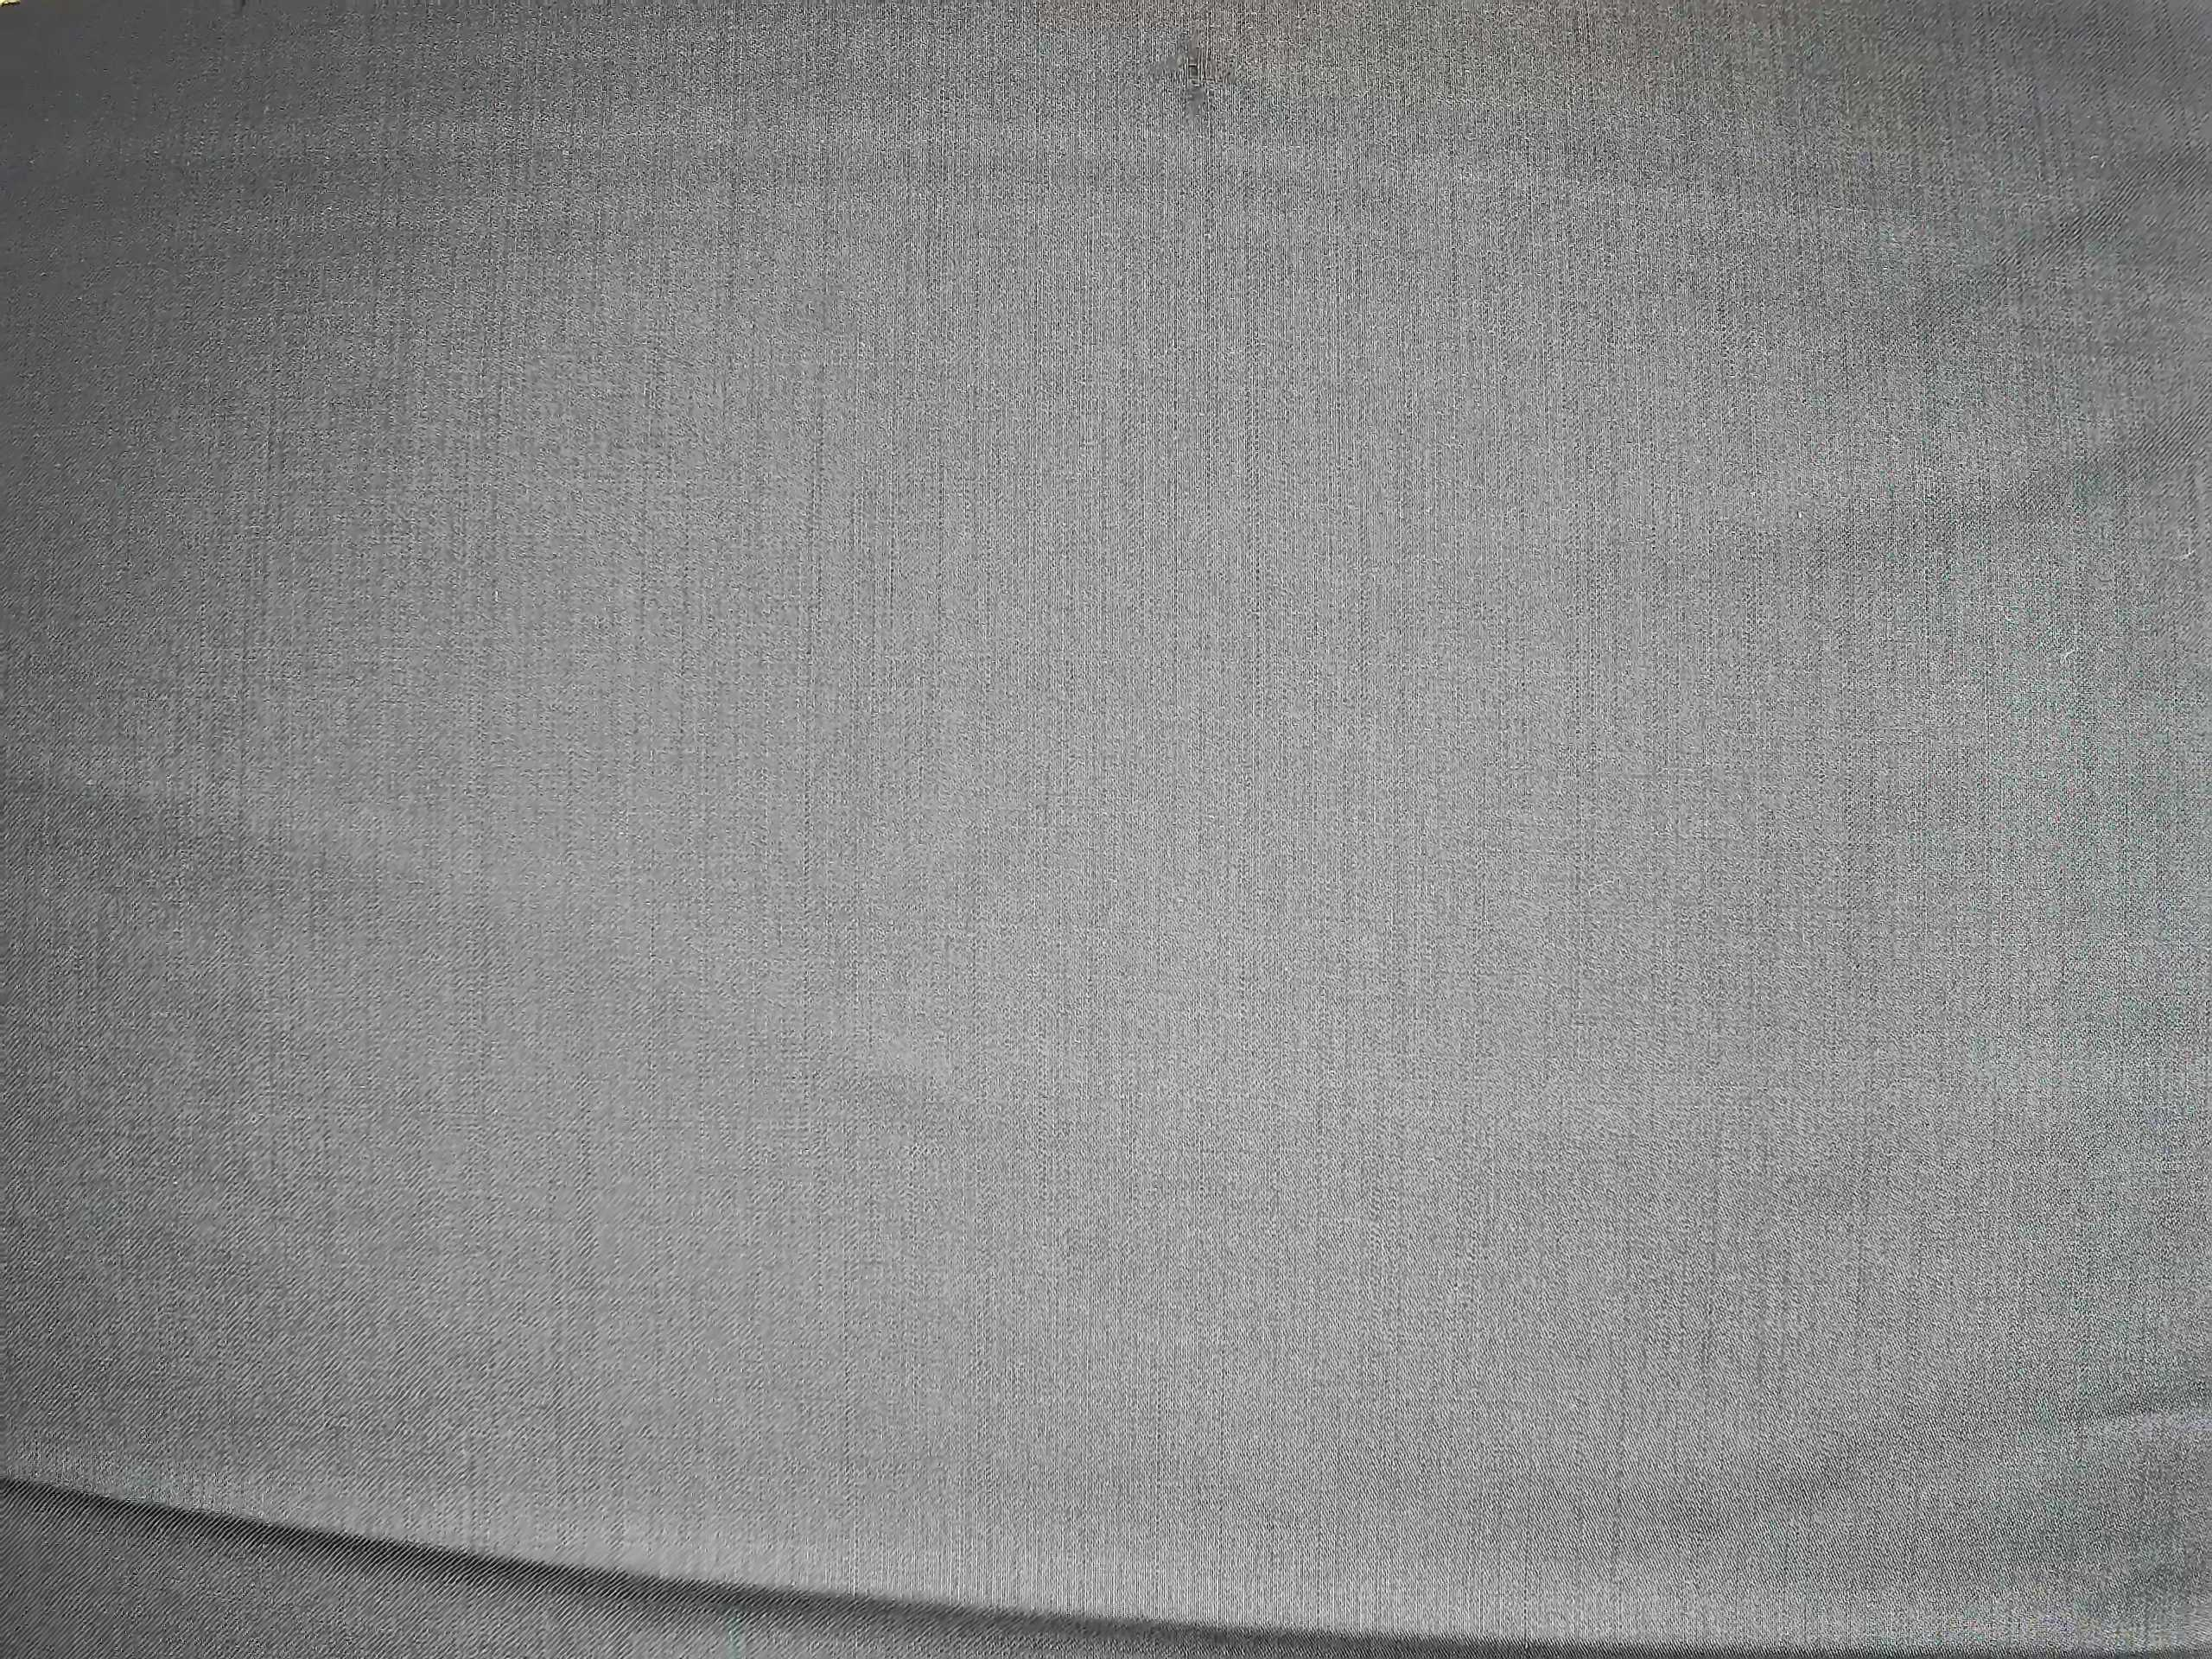rubbing-hole: (1153, 23, 1242, 117)
